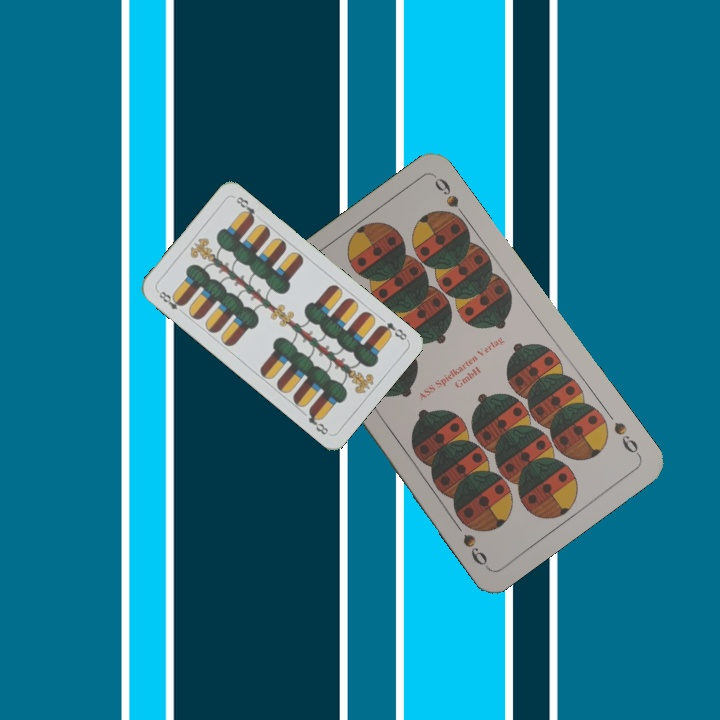E8: (153, 286, 187, 313), (375, 318, 410, 343)
S9: (609, 417, 643, 459)
